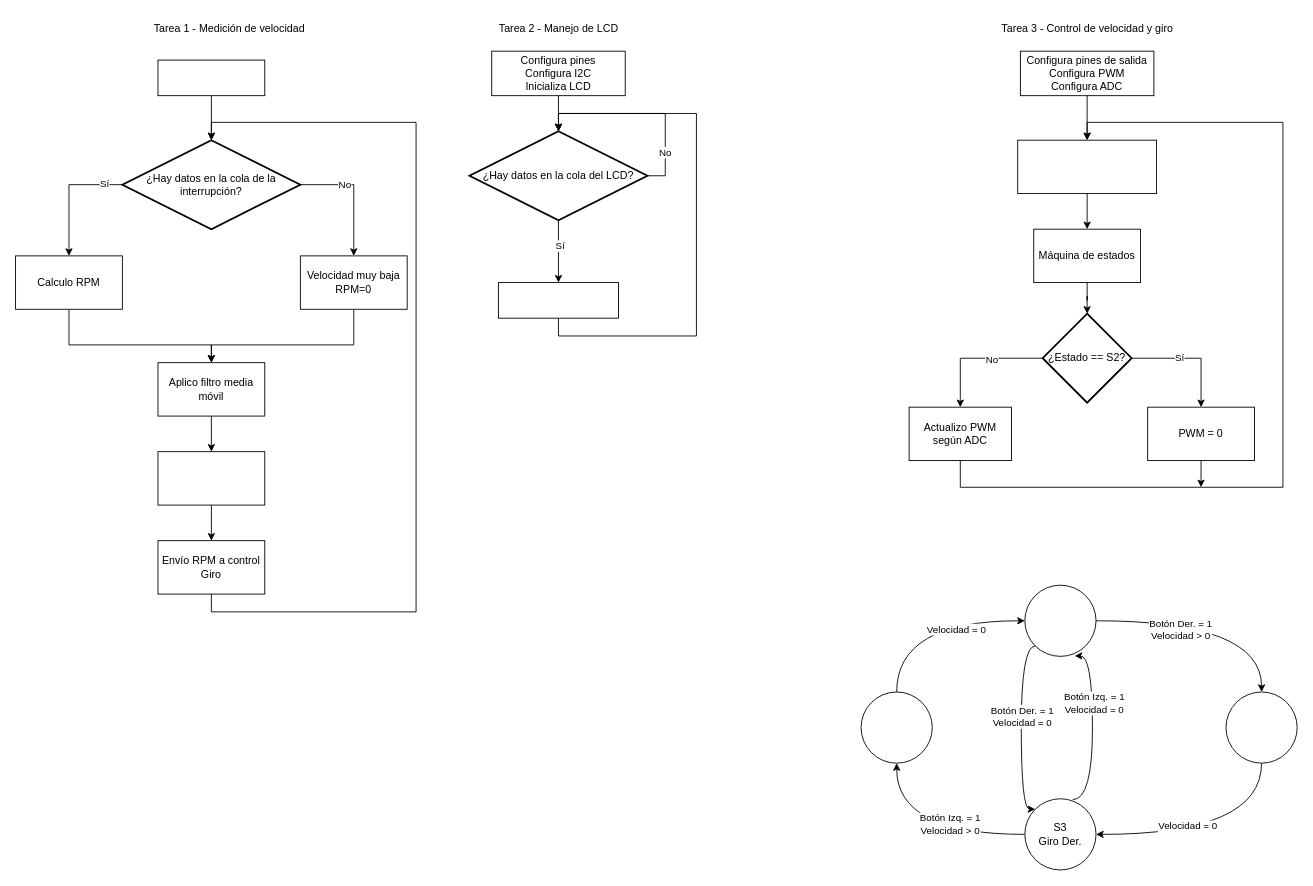
This 1313x886 diagram has some shape labels left out. Here are the shapes that lost their labels. From the top down, the box of each, then its label:
(157, 59, 265, 96): Configura Timer y pines
(1017, 139, 1157, 194): Reviso botones Actualizo velocidad actual
(498, 282, 619, 318): Imprime LCD
(157, 451, 265, 505): Envío RPM a LCD
(1024, 584, 1096, 656): S1 Giro Izq.
(860, 691, 932, 763): S4 Stop
(1225, 691, 1297, 763): S2 Stop
